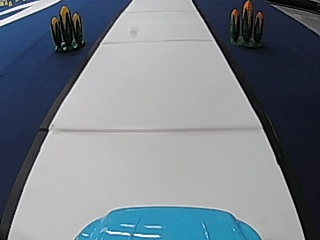corn: (227, 1, 265, 48), (49, 3, 85, 51)
